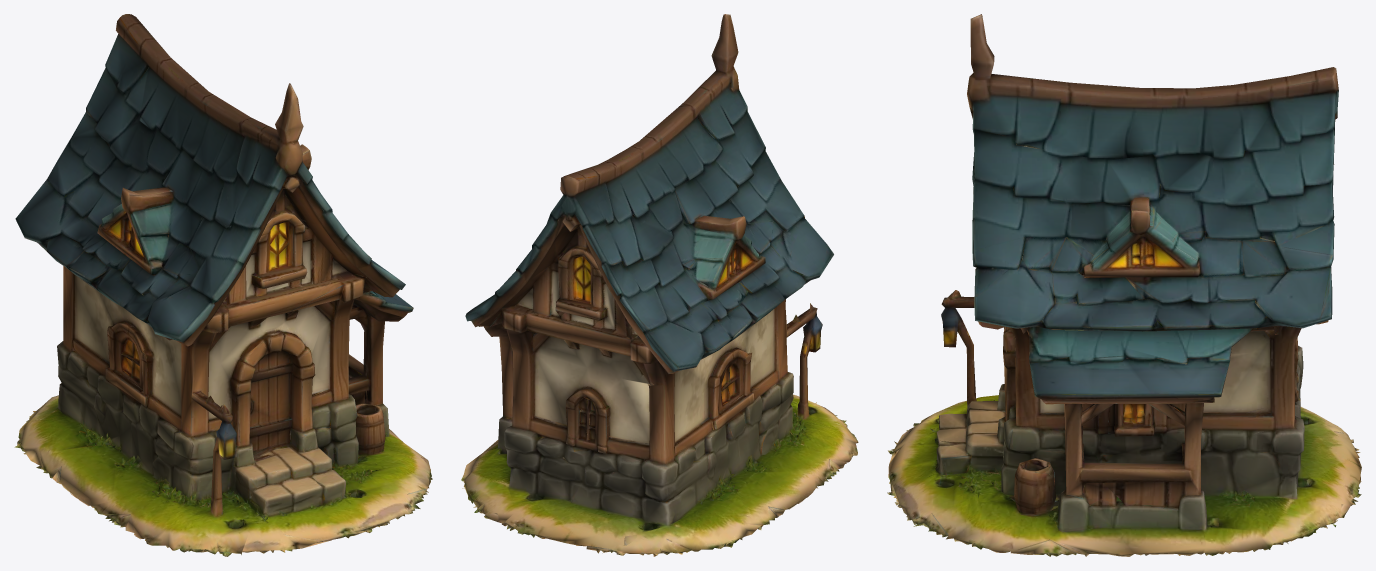
The model's file is house-t2.glb.
3 renders of one model, left to right at view 1: azimuth 30°, elevation 25°; view 2: azimuth 150°, elevation 25°; view 3: azimuth 270°, elevation 25°, orthographic. The views are drawn at different scales.
Parts seen in each view (by area): view 1: Mesh1.0; view 2: Mesh1.0; view 3: Mesh1.0.
Part boxes in pixels (bbox=[...]): Mesh1.0: bbox=[14, 14, 432, 556]; Mesh1.0: bbox=[461, 14, 858, 556]; Mesh1.0: bbox=[887, 14, 1361, 556].
Bounding box in the file's own units: 1.42 × 1.9 × 1.77.
1 material, 1 textured.
